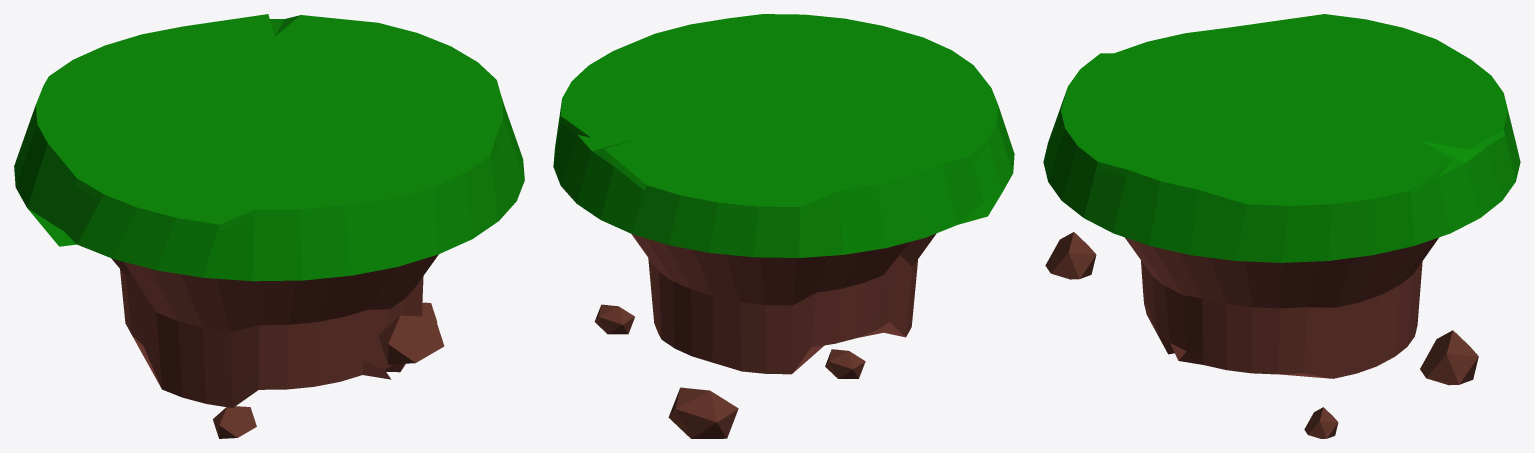
File: Low_Poly_Floating_Island.glb
The picture shows the model from 3 angles, left to right: view 1: azimuth 30°, elevation 25°; view 2: azimuth 150°, elevation 25°; view 3: azimuth 270°, elevation 25°; orthographic projection. The views are drawn at different scales.
Parts seen in each view (by area): view 1: Cylinder_Material_0, Cylinder.001_Material.001_0, Icosphere.001_Material.003_0, Icosphere.003_Material.005_0; view 2: Cylinder_Material_0, Cylinder.001_Material.001_0, Icosphere_Material.002_0, Icosphere.002_Material.004_0, Icosphere.003_Material.005_0; view 3: Cylinder_Material_0, Cylinder.001_Material.001_0, Icosphere_Material.002_0, Icosphere.001_Material.003_0, Icosphere.002_Material.004_0.
Part boxes in pixels (x1,y1,x2,y2): Cylinder_Material_0: (14, 14, 524, 281); Cylinder.001_Material.001_0: (111, 254, 438, 407); Icosphere.001_Material.003_0: (378, 315, 444, 364); Icosphere.003_Material.005_0: (213, 406, 256, 438); Cylinder_Material_0: (553, 14, 1014, 257); Cylinder.001_Material.001_0: (631, 233, 936, 374); Icosphere_Material.002_0: (668, 387, 738, 438); Icosphere.002_Material.004_0: (594, 304, 634, 334); Icosphere.003_Material.005_0: (825, 349, 865, 378); Cylinder_Material_0: (1043, 14, 1520, 262); Cylinder.001_Material.001_0: (1125, 237, 1438, 378); Icosphere_Material.002_0: (1420, 330, 1478, 385); Icosphere.001_Material.003_0: (1045, 232, 1096, 279); Icosphere.002_Material.004_0: (1304, 407, 1338, 438).
Size of the model in its own units: 5.97 by 3.88 by 6.02.
